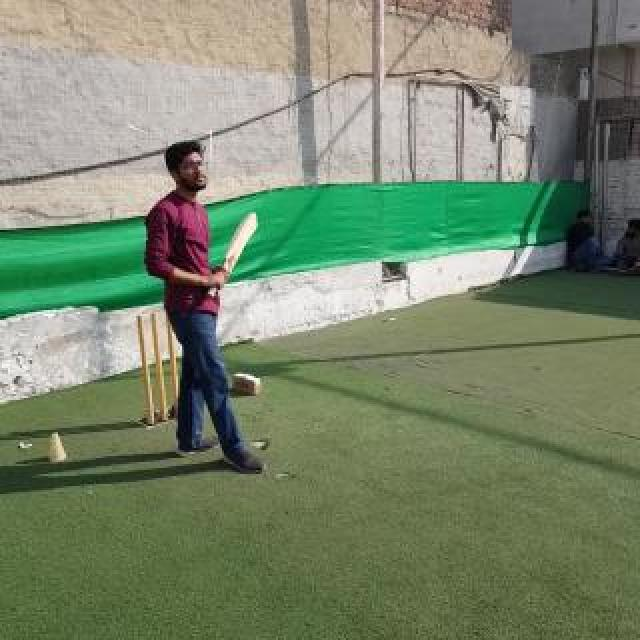bat: (206, 212, 258, 300)
